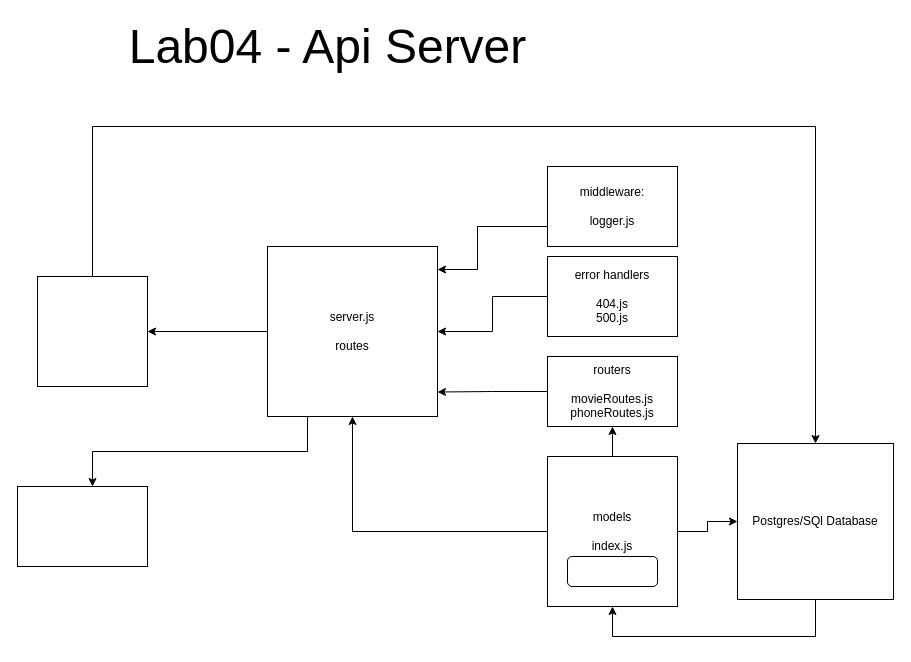
Some shapes in this 911 by 662 pixel diagram are drawn without their labels. Here are the shapes that lost their labels. From the top down, the centre of each, then its label:
At (92,331): "index.js".
At (82,526): "__tests__ server.test.js".
At (612,571): "lib/collection.js".
